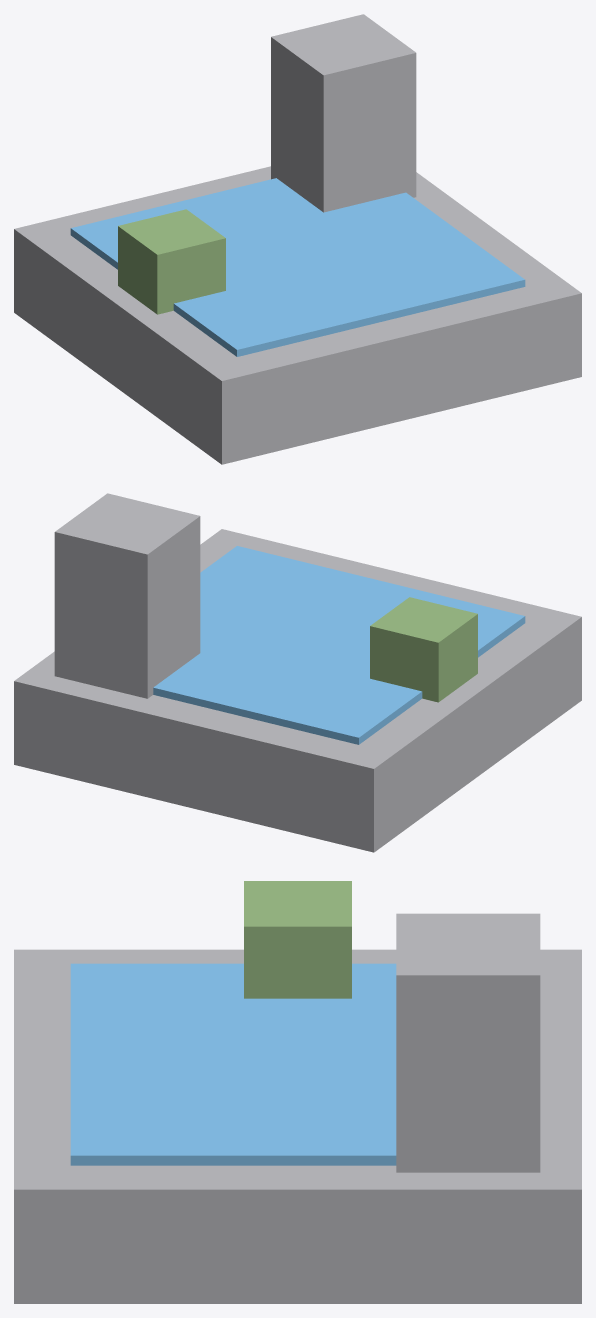
The model's file is Prop_Water_AMF_SpringBasin_V2.glb.
The picture shows the model from 3 angles, top to bottom: view 1: azimuth 30°, elevation 25°; view 2: azimuth 150°, elevation 25°; view 3: azimuth 270°, elevation 25°; orthographic projection. The views are drawn at different scales.
Visible parts, largest first — view 1: Prop_Water_AMF_SpringBasin_V2; view 2: Prop_Water_AMF_SpringBasin_V2; view 3: Prop_Water_AMF_SpringBasin_V2.
Part boxes in pixels (box(x1,y1,x2,y2)): Prop_Water_AMF_SpringBasin_V2: box(14, 14, 581, 464); Prop_Water_AMF_SpringBasin_V2: box(14, 493, 581, 852); Prop_Water_AMF_SpringBasin_V2: box(14, 881, 581, 1303).
Bounding box in the file's own units: 1.58 × 0.9535 × 1.58.
